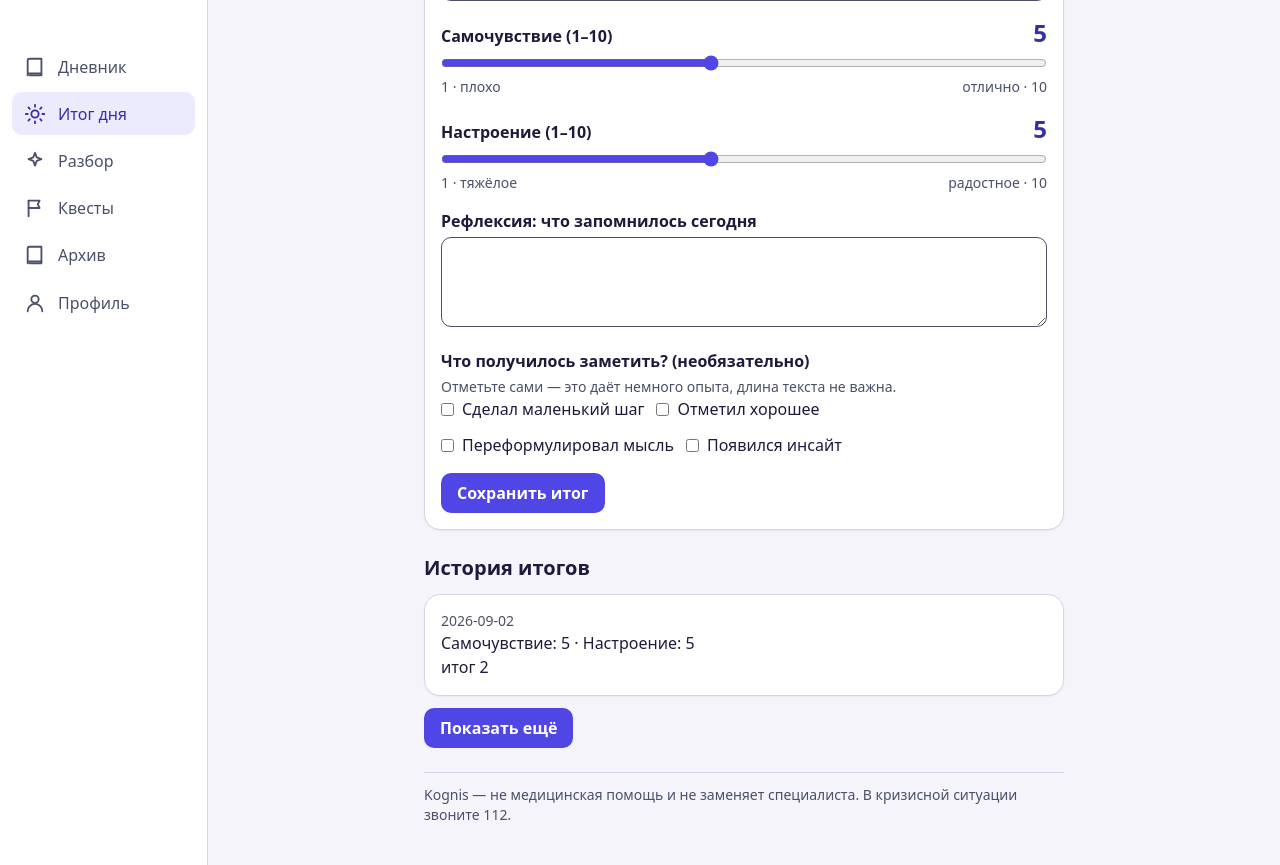
итоги дня: история подгружается по «Показать ещё»
The image size is (1280, 865).
(page scrolled)
Expected: the text "итог 2" is shown, [441,656,489,678]
Click the button with test id "more-reviews": (499, 728) [424,708,574,748]
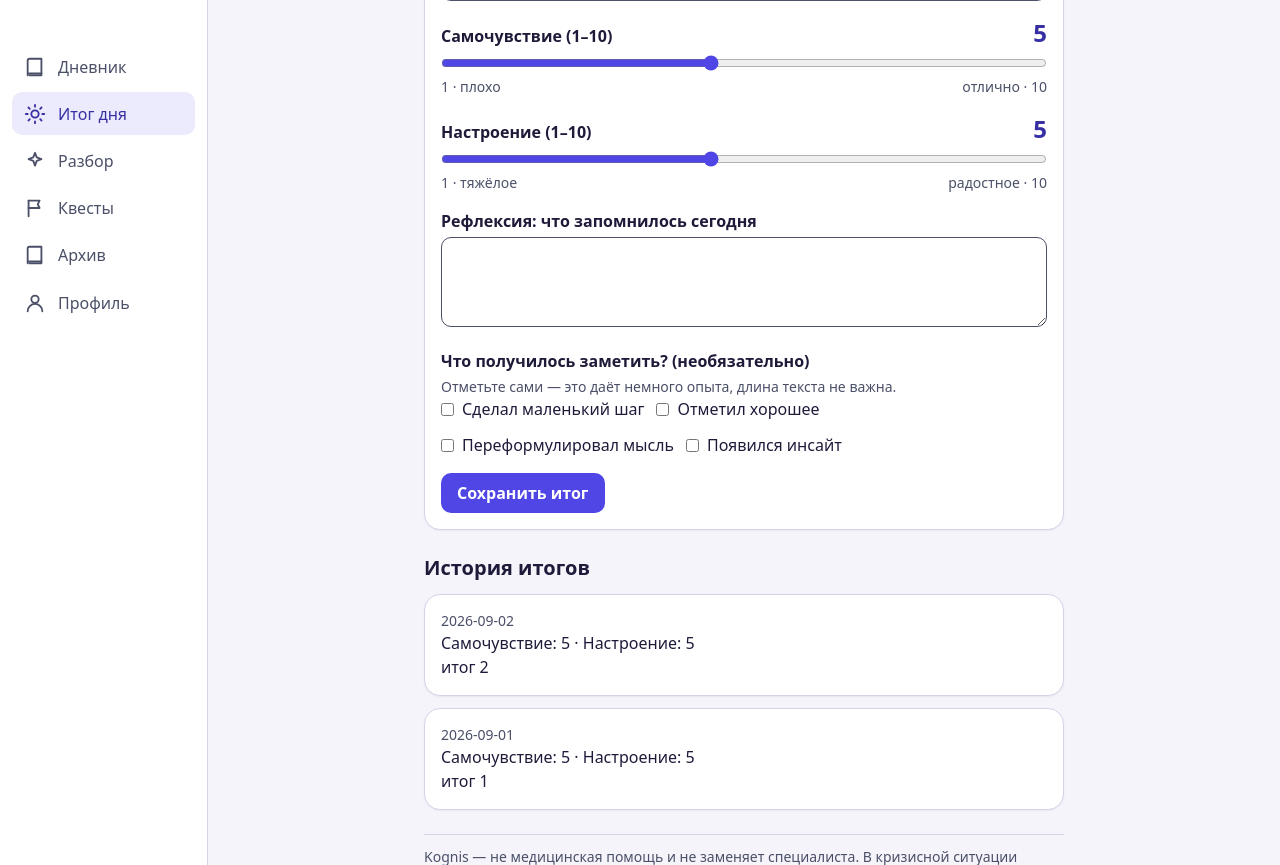
Expected: the text "итог 1" is shown, [441,770,489,792]
Expected: the button with test id "more-reviews" is gone
